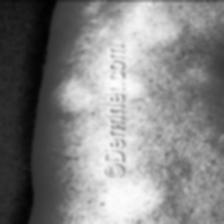Non-Cancerous Skin Condition: (153, 12, 211, 142), (57, 179, 190, 224), (64, 29, 100, 143)
